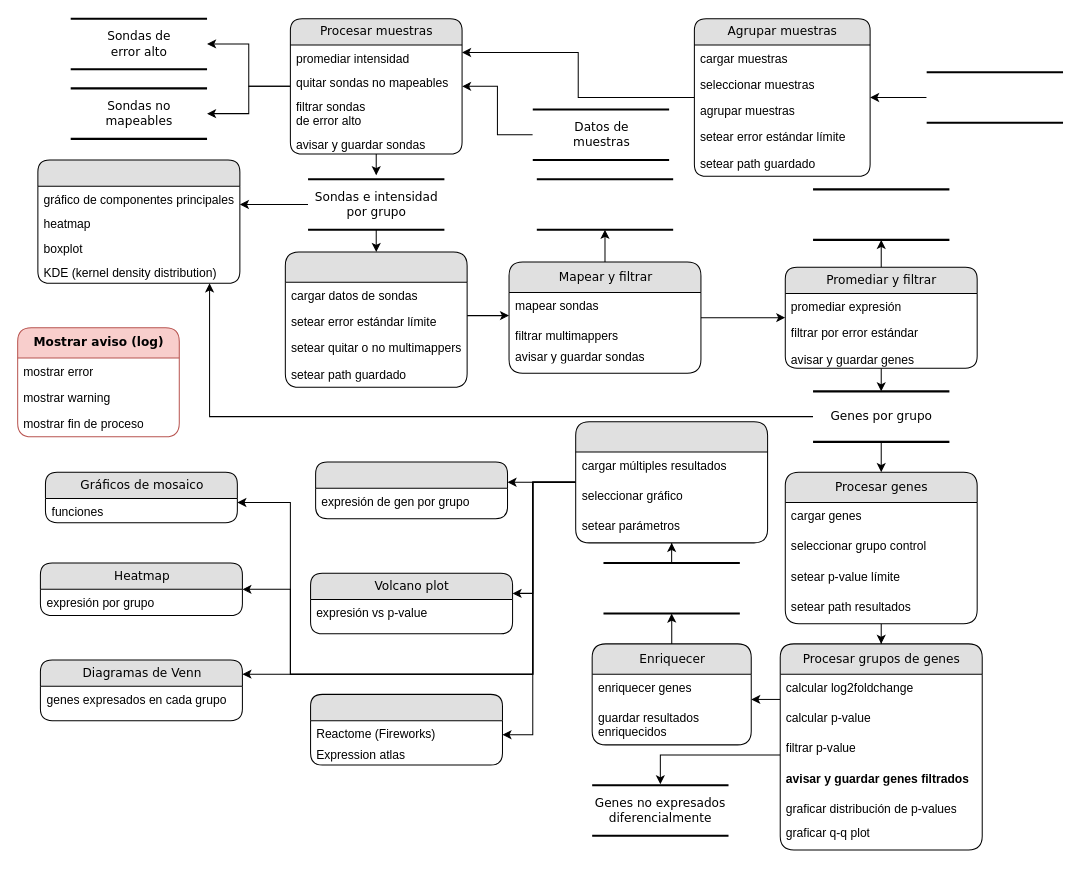
Some shapes in this 1082 by 870 pixel diagram are drawn without their labels. The shapes that lost their labels are listed below. From the top down, each one's box as (x1, y1, x2, y2) in pixels, then its label:
(925, 71, 1064, 123): Metadatos de muestras
(37, 159, 240, 283): Controlar calidad
(535, 178, 674, 230): Sondas multimappers
(812, 188, 950, 240): Genes de alto error
(284, 251, 467, 387): Procesar sondas
(315, 461, 508, 519): Gráficos de barra
(575, 421, 768, 543): Análisis y metanálisis de resultados
(602, 562, 740, 614): Genes expresados diferencialmente enriquecidos
(310, 693, 502, 765): Páginas web
